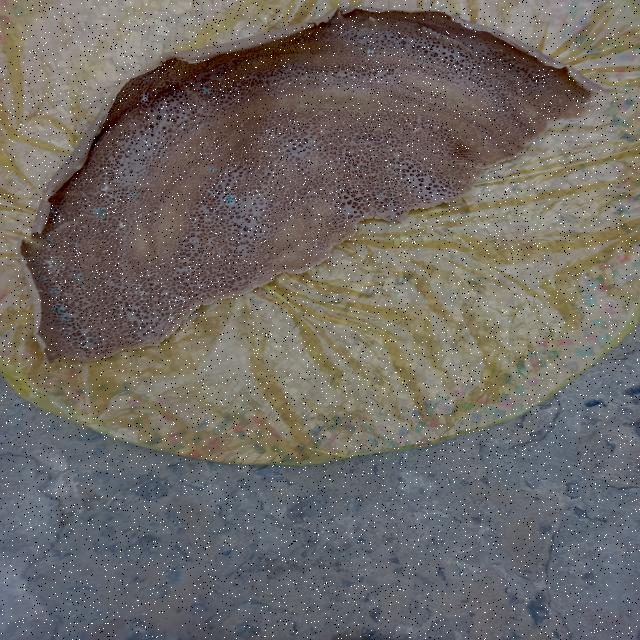injera_mold: (41, 259, 65, 276), (131, 283, 150, 300), (100, 182, 115, 197), (167, 296, 187, 306), (93, 207, 109, 219), (224, 195, 235, 205), (140, 92, 150, 102), (52, 304, 64, 312), (49, 287, 60, 295), (73, 274, 84, 282), (59, 316, 70, 323), (202, 87, 212, 94), (208, 189, 217, 196), (87, 336, 95, 343), (45, 236, 52, 242), (118, 223, 125, 229), (208, 168, 218, 172), (39, 276, 46, 281), (168, 315, 174, 320), (56, 283, 62, 287), (160, 262, 166, 266), (35, 264, 40, 268), (74, 242, 78, 247), (131, 193, 136, 197), (213, 209, 218, 213), (143, 139, 148, 143), (81, 345, 87, 348), (49, 353, 55, 356), (107, 130, 111, 134), (38, 289, 43, 292), (138, 214, 143, 217), (167, 229, 174, 231), (116, 229, 119, 231), (149, 144, 152, 146)
